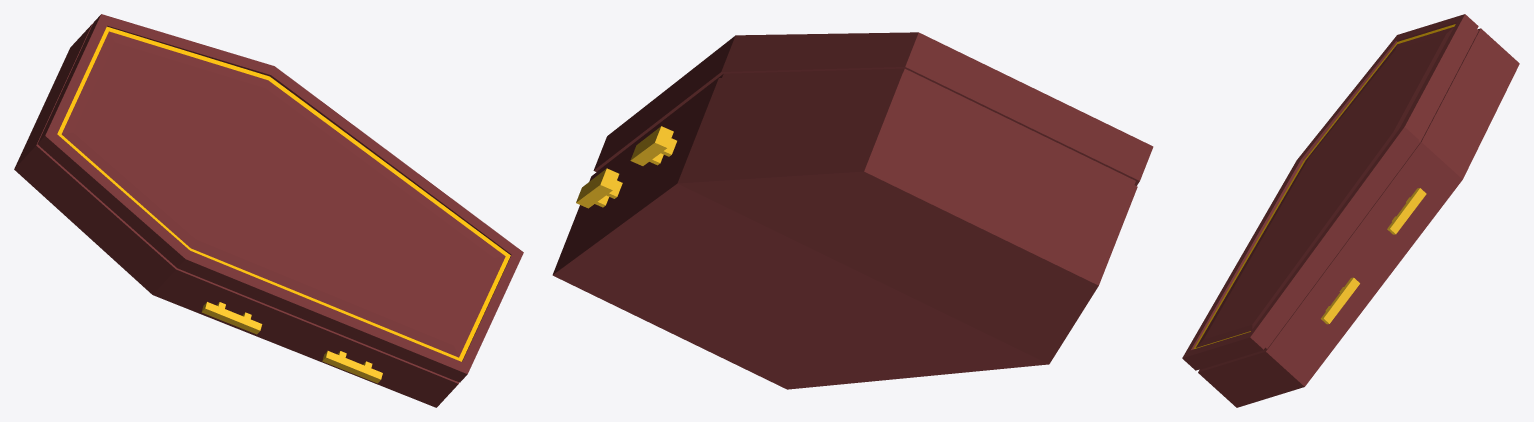
Rendered from coffin.gltf.
3 views of the same model, side by side, from view 1: azimuth 30°, elevation 25°; view 2: azimuth 150°, elevation 25°; view 3: azimuth 270°, elevation 25° (orthographic). The views are drawn at different scales.
Parts seen in each view (by area): view 1: Cube.1020; view 2: Cube.1020; view 3: Cube.1020.
Boxes of the visible parts, x1=… form: Cube.1020: x1=14, y1=14, x2=523, y2=407; Cube.1020: x1=552, y1=32, x2=1153, y2=389; Cube.1020: x1=1182, y1=14, x2=1519, y2=407.
Size of the model in its own units: 2.23 by 1.88 by 1.88.
Materials: 1 (1 with a texture image).
